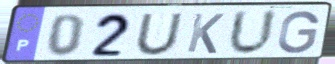0: (46, 13, 87, 59)
2: (85, 10, 135, 60)
G: (275, 10, 321, 55)
K: (184, 12, 226, 55)
U: (226, 8, 280, 58), (134, 11, 186, 57)
